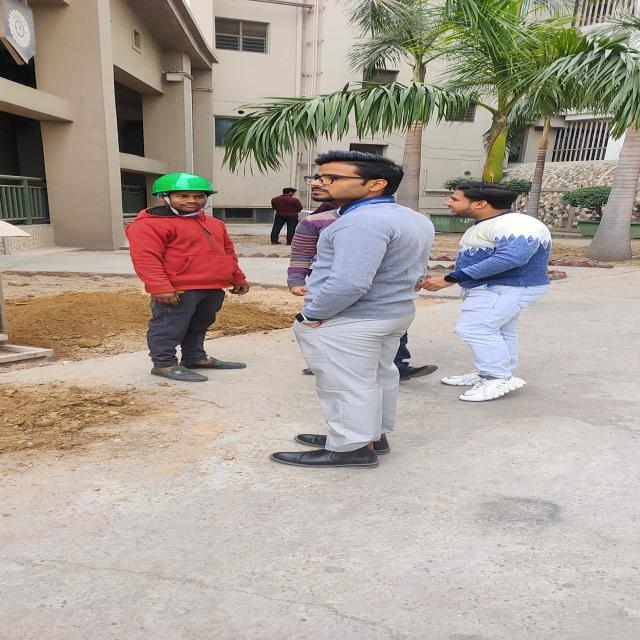no jacket: (124, 173, 249, 383)
unsafe: (267, 152, 436, 469), (420, 182, 552, 401), (271, 188, 303, 245)
